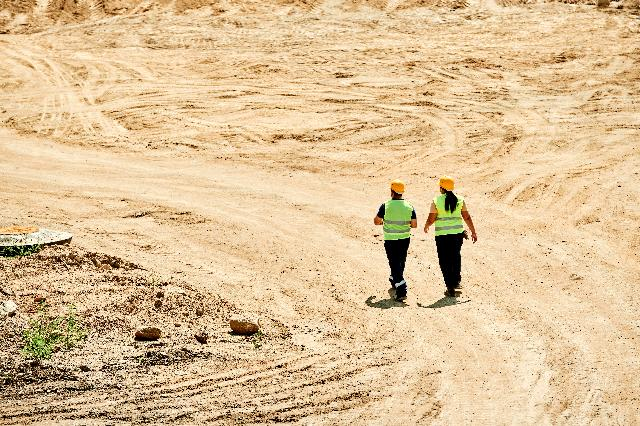helmet: (388, 180, 408, 195), (438, 178, 456, 190)
vest: (379, 204, 415, 242), (434, 198, 468, 237)
